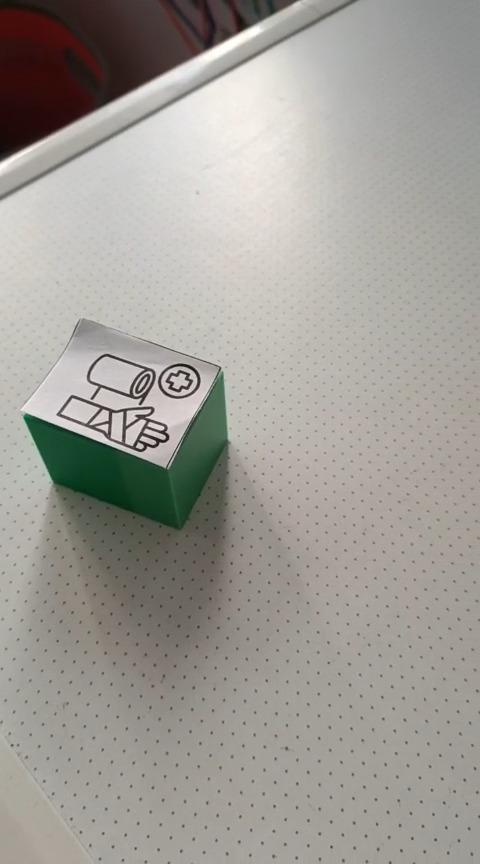Bandages: (21, 317, 230, 531)
